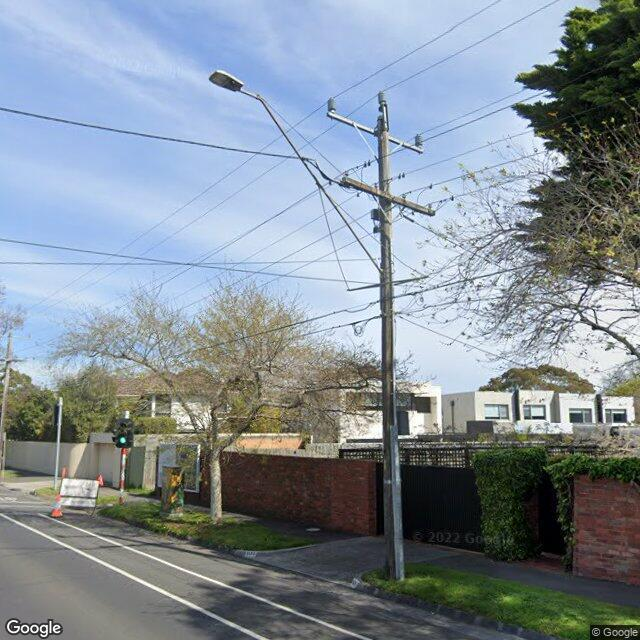HV-transmission: (328, 91, 422, 148)
crossarm: (327, 112, 423, 154), (341, 177, 435, 216), (0, 359, 26, 362)
steel-pole: (119, 410, 130, 506)
streetlight: (208, 69, 383, 275)
timber-pole: (378, 115, 403, 582), (0, 333, 13, 470)
traffic-light: (112, 418, 134, 448)
